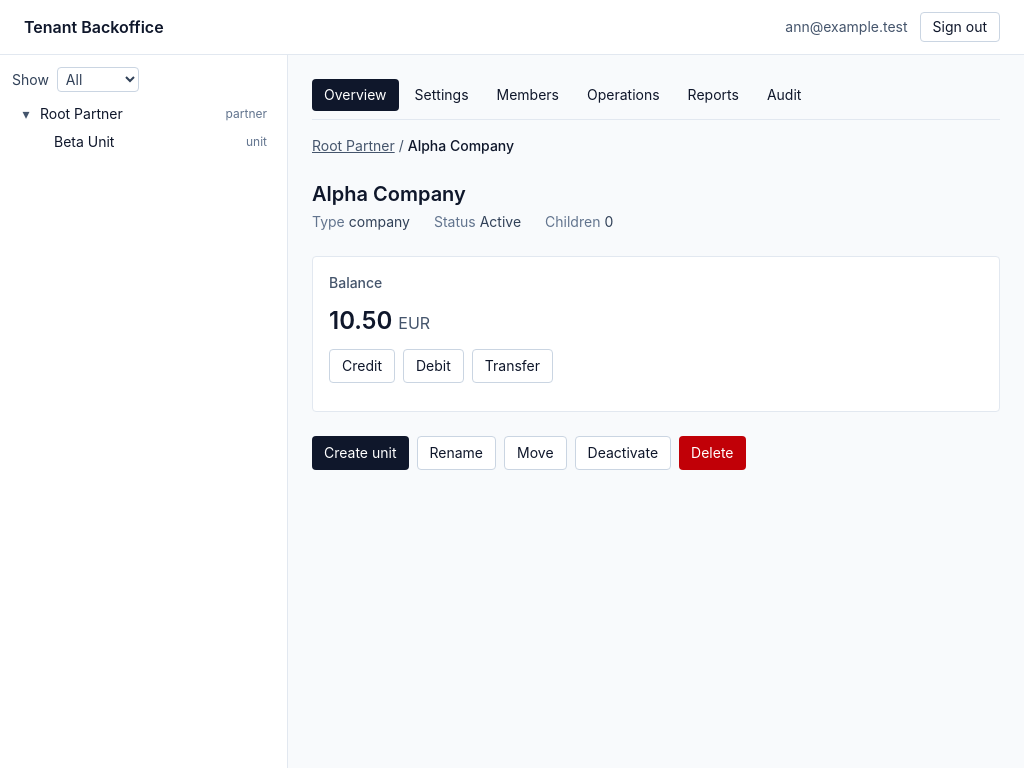
Test: node card › renames: the name is trimmed and the card shows the server answer after a re-read
Click the button "Rename" at (456, 453), box 416,436 -> 496,470
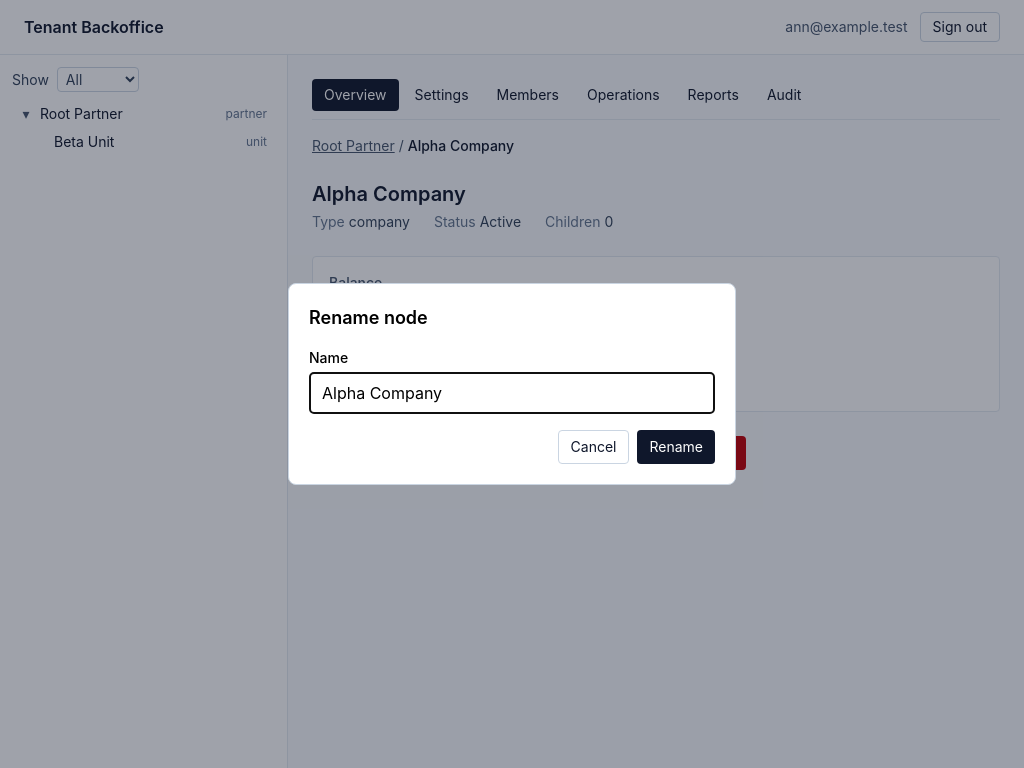
Replace the text in the field labelled "Name" with "  Gamma  " at (512, 393), box 309,372 -> 715,414
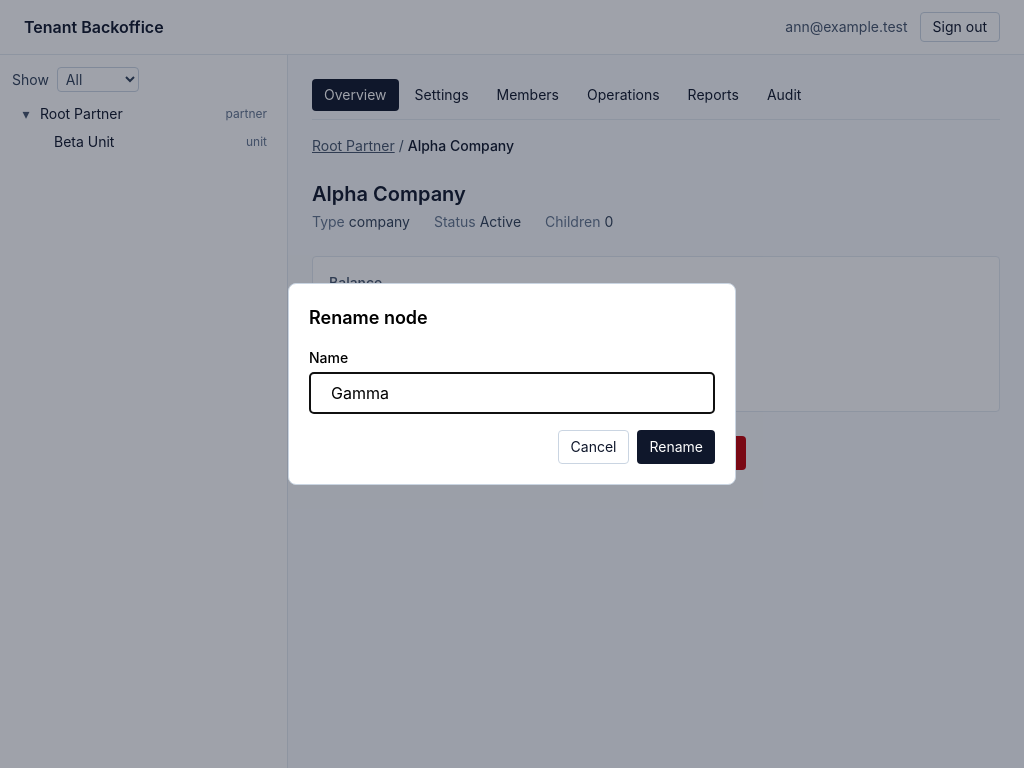
Click the submit button at (676, 447), box 638,430 -> 715,464
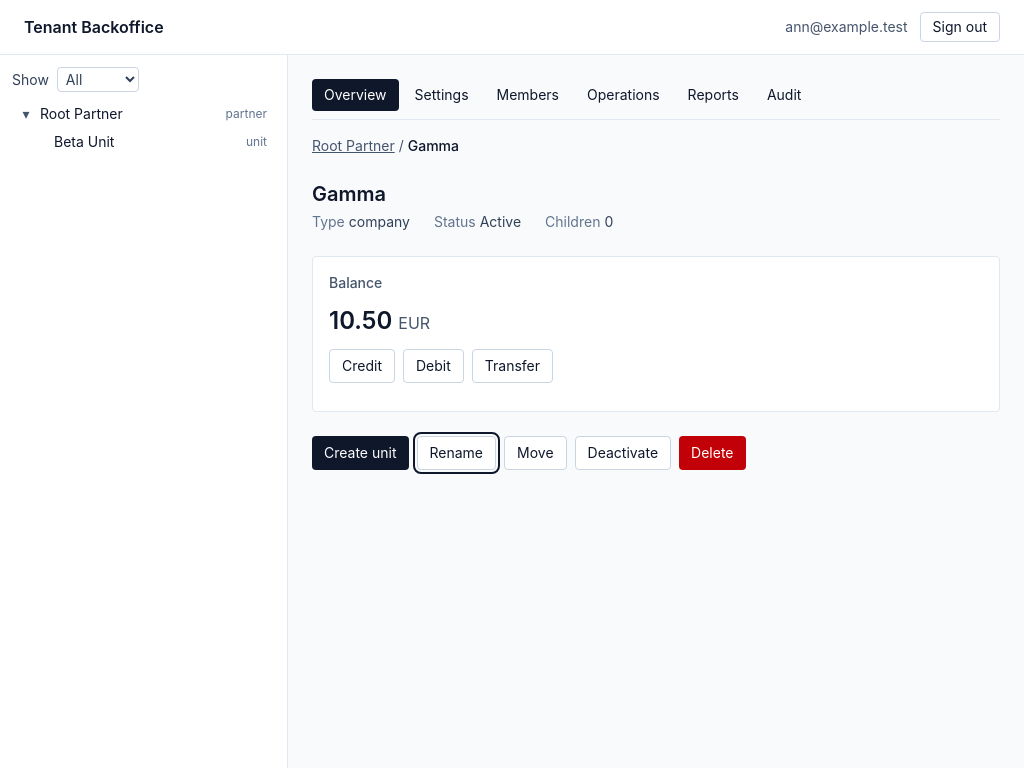
Now the heading "Gamma" is shown, box 312,182 -> 386,206
